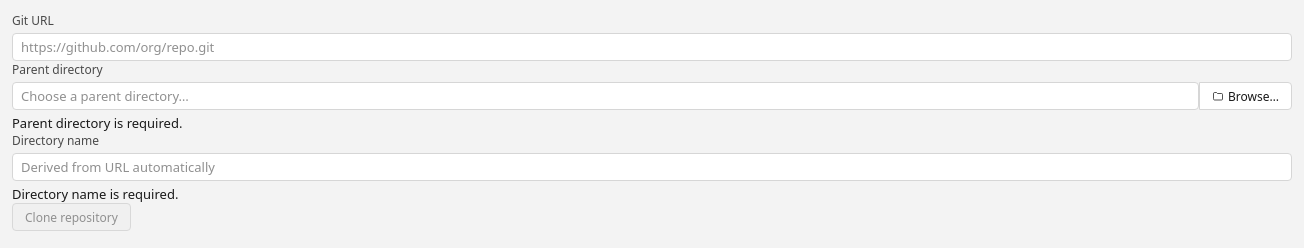
Test: CloneRepositoryForm — URL auto-derives directory name › auto-fills directory name from URL
Type "https://github.com/org/my-project.git" into the field with test id "clone-url".
click(652, 47); type("https://github.com/org/my-project.git")  # box x1=12 y1=33 x2=1292 y2=61
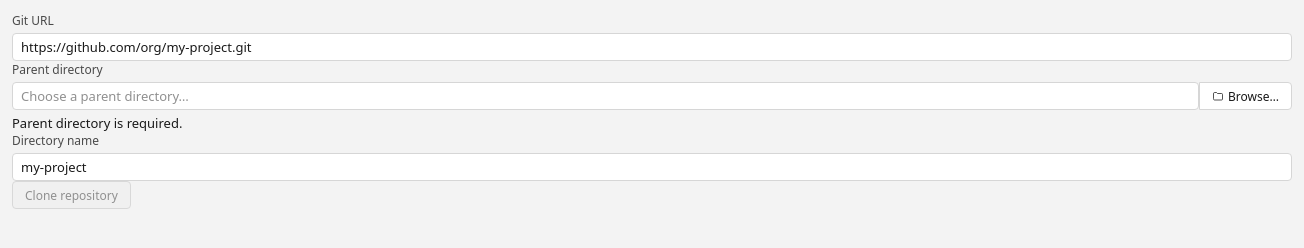
Check: the field with test id "clone-dirname" holds "my-project", box x1=12 y1=153 x2=1292 y2=181
